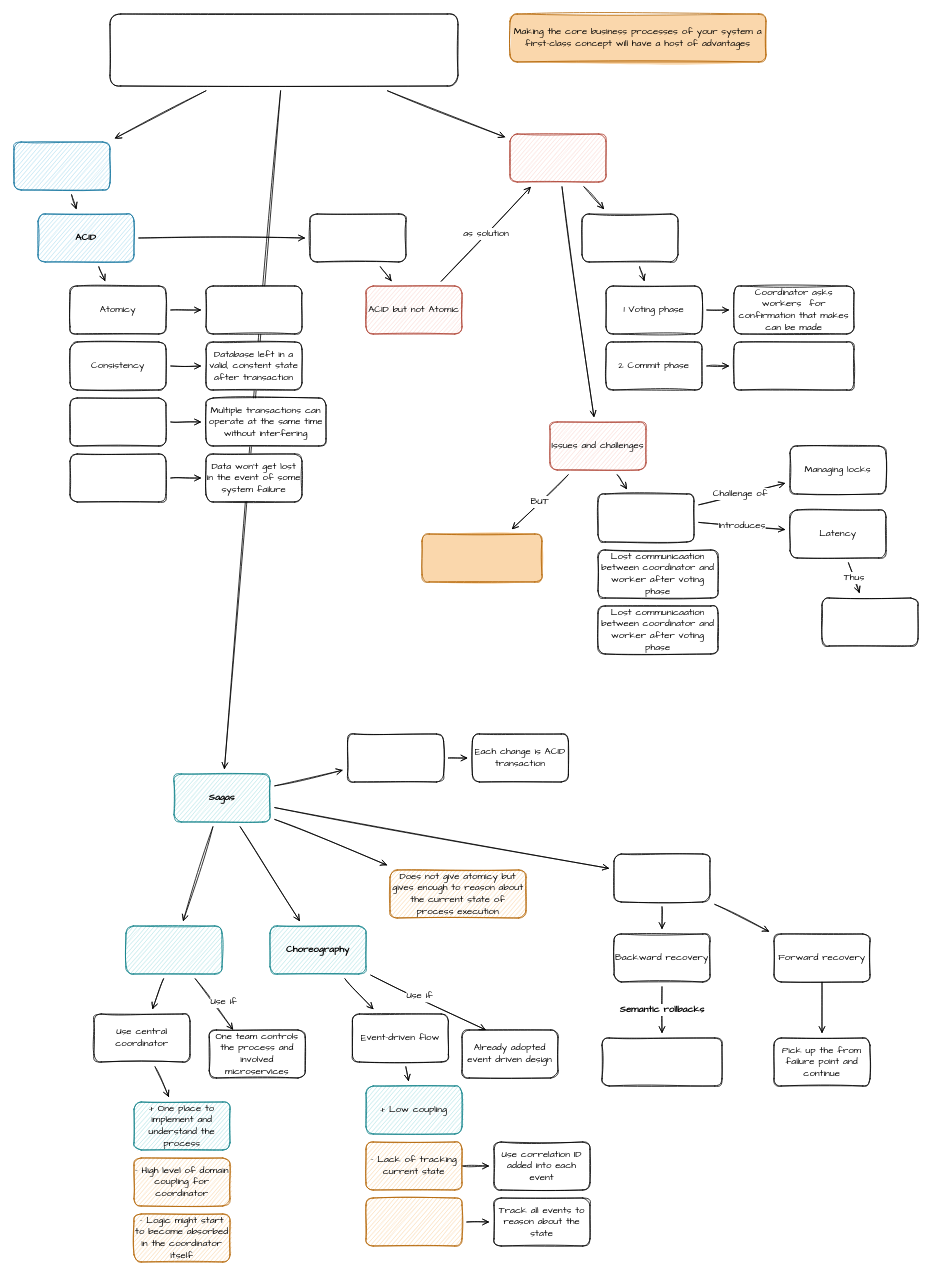
This 932x1276 diagram has some shape labels left out. Each missing label, with the box of its shape:
- Lack of explicit process representation: (365, 1197, 462, 1246)
A flow of several independent steps: (347, 733, 444, 782)
All operations either complete or all fail: (205, 285, 302, 334)
At its heart - coordinating distributed locks: (597, 493, 694, 542)
Chapter 6: Workflow: (109, 13, 458, 86)
Check out Database Distributed Transactions with Google's Spanner: (421, 533, 542, 582)
Coordinator asks to commit prepared changes: (733, 341, 854, 390)
Database Transactions: (13, 141, 110, 190)
Distributed Transactions: (509, 133, 606, 182)
Durability: (69, 453, 166, 502)
Failure Modes: (613, 853, 710, 902)
In Microservices / Distributed systems: (309, 213, 406, 262)
Isolation: (69, 397, 166, 446)
Orchestration: (125, 925, 222, 974)
Roll back all changes made before fail as compensatoin transactions: (601, 1037, 722, 1086)
Two-Phase Commits: (581, 213, 678, 262)
Used for short-lived operations: (821, 597, 918, 646)
